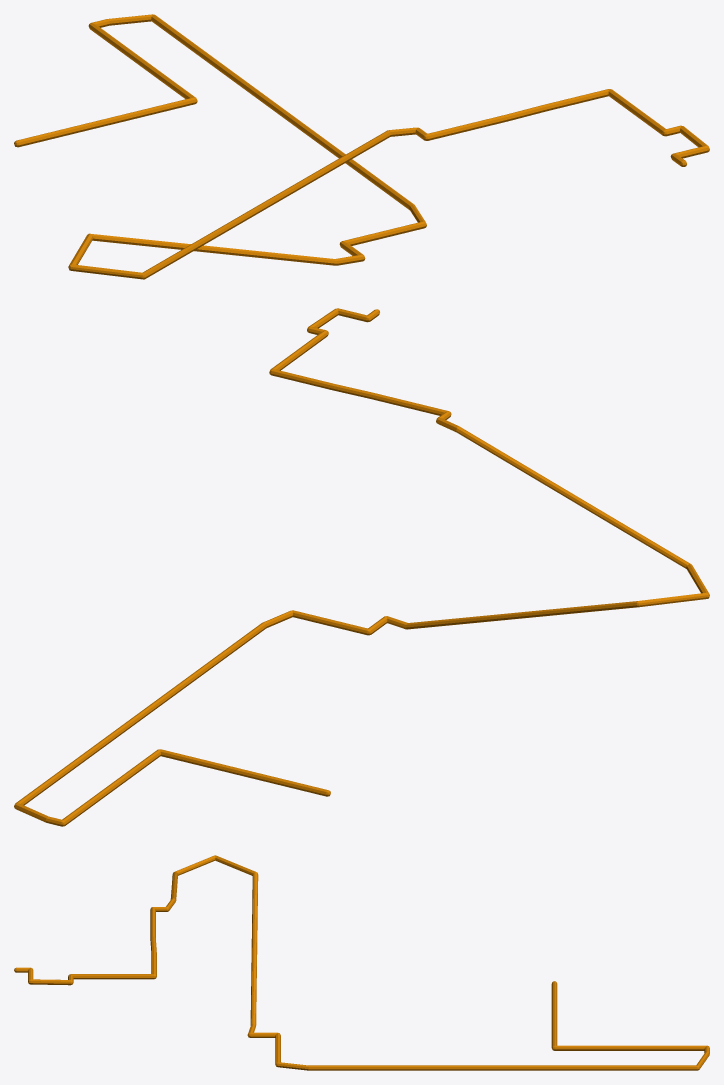
The picture shows the model from 3 angles, top to bottom: view 1: azimuth 30°, elevation 25°; view 2: azimuth 150°, elevation 25°; view 3: azimuth 270°, elevation 25°; orthographic projection. The views are drawn at different scales.
Bounding box in the file's own units: 1619 × 520 × 2507.
